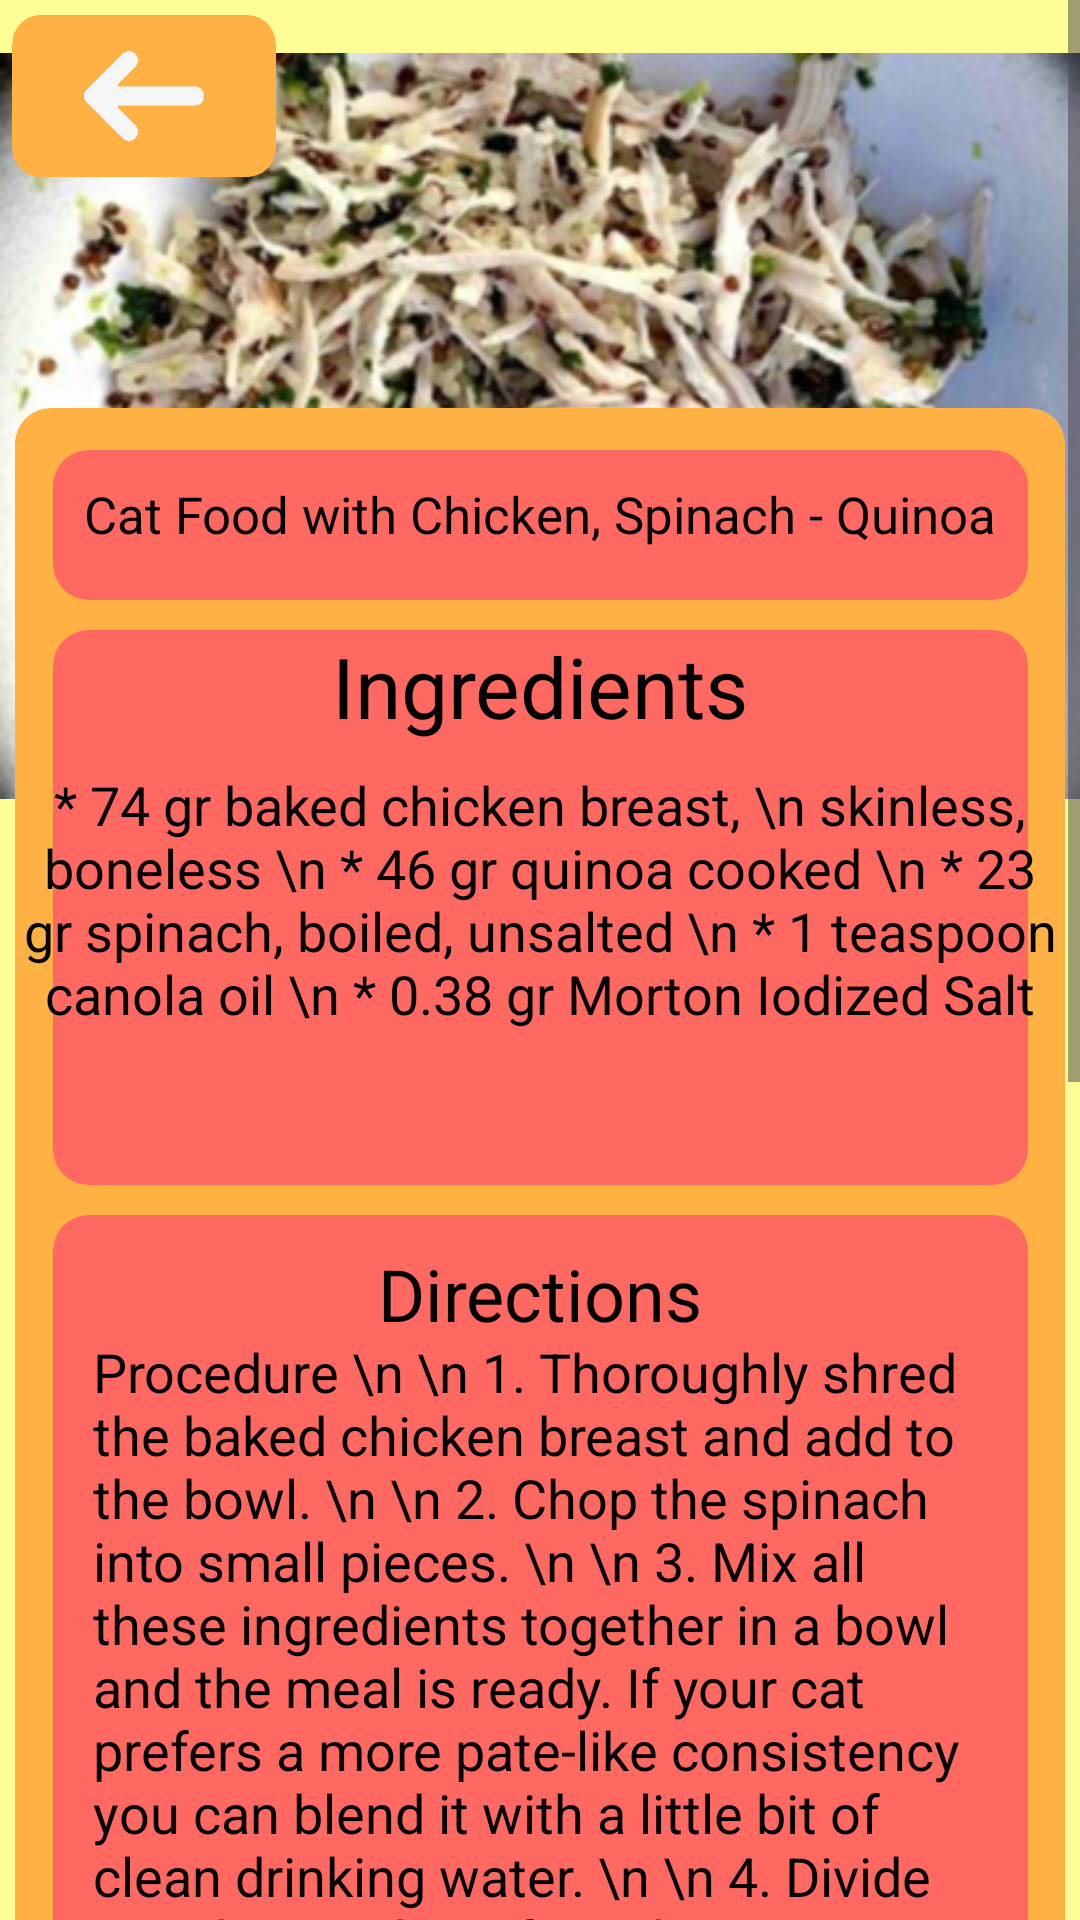

Icons on this 1080px×1920px Android screen, each with the point to tap as (x=x, y=y):
backred: (x=144, y=96)
